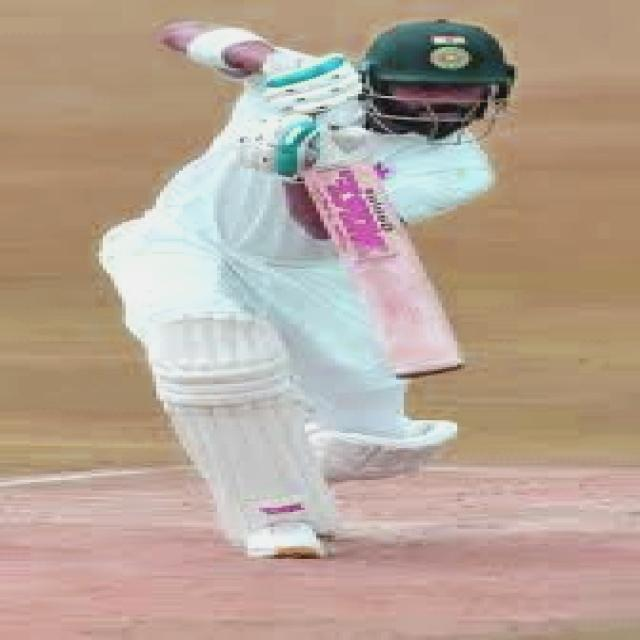bat: (293, 136, 479, 398)
toe: (394, 360, 464, 379)
